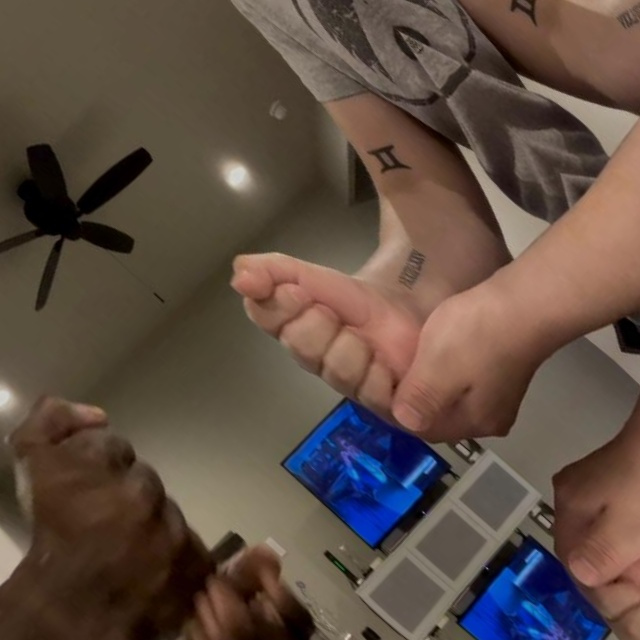Rock: (0, 364, 257, 640), (0, 544, 99, 640)
